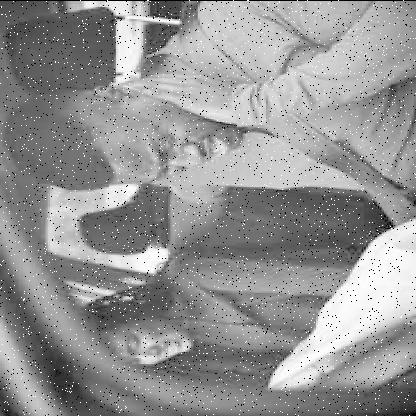seatbelt: (15, 17, 391, 198)
